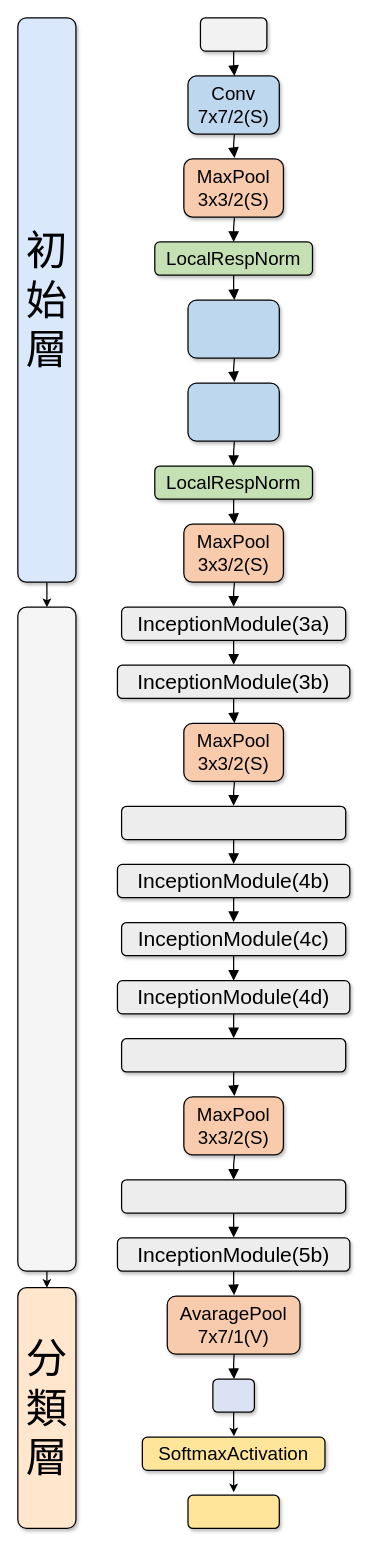
Some shapes in this 370 by 1550 pixel diagram are drawn without their labels. The shapes that lost their labels are listed below. From the top down, each one's centre as x and y in pixels, then its label:
At point (234, 35): "Input".
At point (234, 330): "Conv 1x1/1(V)".
At point (234, 413): "Conv 3x3/1(S)".
At point (234, 824): "InceptionModule(4a)".
At point (47, 940): "模組 層".
At point (234, 1056): "InceptionModule(4e)".
At point (234, 1197): "InceptionModule(5a)".
At point (234, 1396): "FC".
At point (234, 1513): "Softmax".
